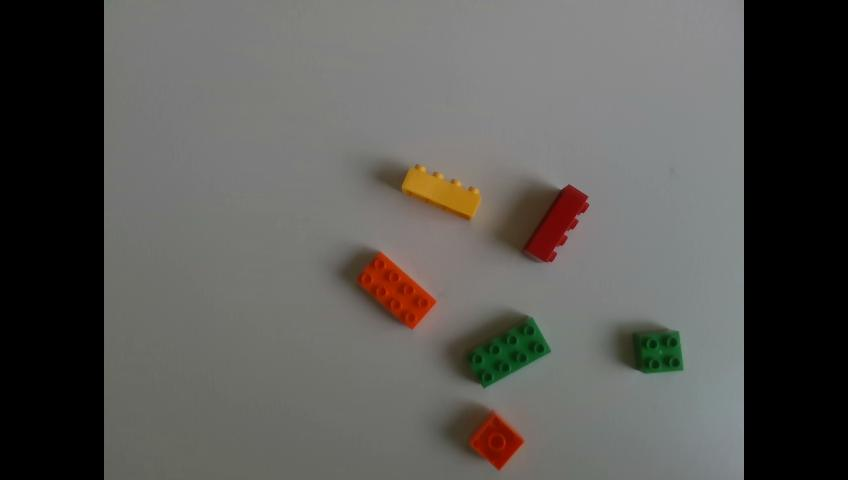2x2_green: (636, 330, 683, 371)
2x2_orange: (471, 411, 523, 468)
4x2_green: (468, 318, 551, 386)
4x2_orange: (357, 251, 436, 326)
4x2_red: (521, 182, 587, 260)
4x2_yellow: (400, 165, 479, 218)
